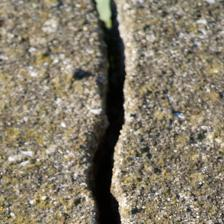Crack: (38, 2, 96, 221)
